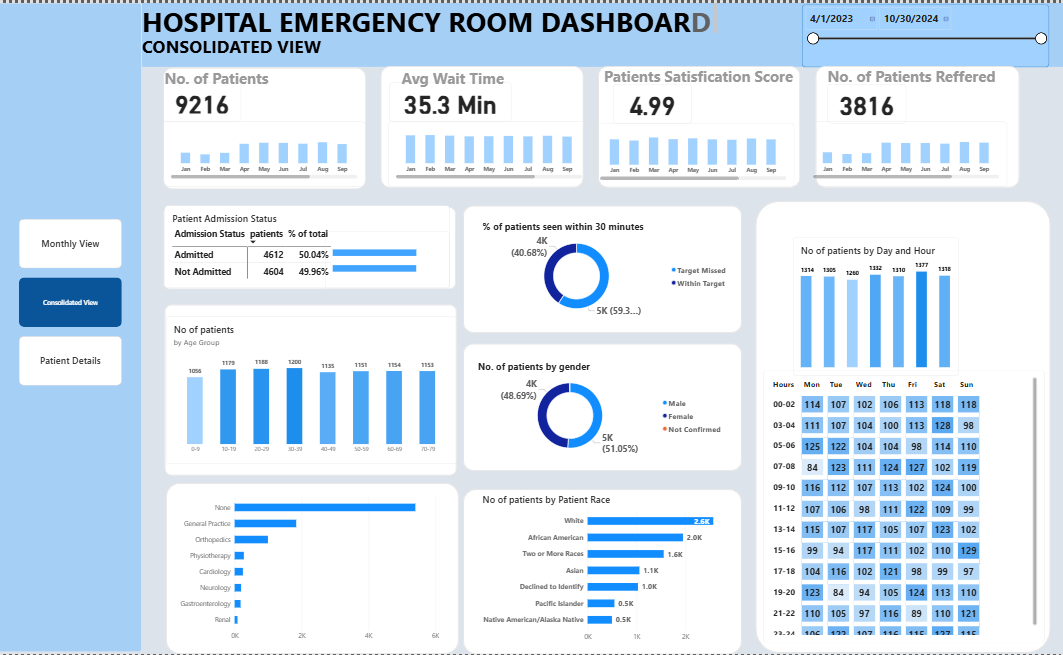

The page's visual inventory and layout, read from the dashboard file:
{"tool":"powerbi","page":{"name":"Consolidated View","canvas":[2300,1400],"ordinal":1},"visuals":[{"type":"shape","box":[316.7,0,1983.3,137.5],"z":0},{"type":"textbox","box":[316.7,0,1237.5,70.8],"z":2000},{"type":"textbox","box":[316.6,69.1,480.4,61.9],"z":3000},{"type":"shape","box":[360.3,138.3,436.7,262],"z":4000},{"type":"card","fields":{"Values":["Hospital ER_Data.No of patients"]},"box":[362,171.9,168.2,84.1],"z":5000},{"type":"slicer","fields":{"Values":["Date Table.Date"]},"box":[1735.9,3.6,531.3,134.7],"z":6000},{"type":"textbox","box":[364.2,137.7,309.4,58.5],"z":8000},{"type":"columnChart","fields":{"Category":["Date Table.Month"],"Y":["Hospital ER_Data.No of patients"]},"box":[362,256,435.1,140],"z":10750},{"type":"shape","box":[829.3,136,436.7,262],"z":11000},{"type":"card","fields":{"Values":["Hospital ER_Data.Avg Wait Time"]},"box":[847.8,169.6,261.7,84.8],"z":12000},{"type":"shape","box":[1298.3,136.4,434.9,261.7],"z":13000},{"type":"shape","box":[1765.5,136.4,438.6,261.7],"z":14000},{"type":"textbox","box":[1791.3,136.4,468.1,62.7],"z":15000},{"type":"shape","box":[4.2,0,312.5,1395.8],"z":15500},{"type":"columnChart","fields":{"Category":["Date Table.Month"],"Y":["Avg(Hospital ER_Data.Patient Waittime)"]},"box":[846.3,253.7,435.1,140],"z":16000},{"type":"card","fields":{"Values":["Hospital ER_Data.Patients Satisfication Score"]},"box":[1330.6,173.2,169.6,84.8],"z":17000},{"type":"textbox","box":[873.6,140.1,313.3,59],"z":18000},{"type":"columnChart","fields":{"Category":["Date Table.Month"],"Y":["Hospital ER_Data.Patients Satisfication Score"]},"box":[1282.7,258,434.9,140],"z":19000},{"type":"columnChart","fields":{"Category":["Date Table.Month"],"Y":["Hospital ER_Data.No of patients Reffered"]},"box":[1743.4,254.3,434.9,140],"z":20000},{"type":"card","fields":{"Values":["Hospital ER_Data.No of patients Reffered"]},"box":[1791.3,173.2,169.6,84.8],"z":21000},{"type":"textbox","box":[1308.5,136.4,423.9,62.7],"z":22000},{"type":"shape","box":[361.2,438.6,630,177],"z":23000},{"type":"pivotTable","title":"Patient Admission Status","fields":{"Rows":["Hospital ER_Data.Admission Status"],"Values":["Hospital ER_Data.No of patients1","Hospital ER_Data.No of patients"]},"box":[363.6,436.4,613.6,177.3],"z":24000},{"type":"barChart","fields":{"Category":["Hospital ER_Data.Admission Status"],"Y":["Hospital ER_Data.No of patients"]},"box":[709.4,490.6,267.9,124.5],"z":25000},{"type":"shape","box":[364.3,650,628.6,368],"z":26000},{"type":"clusteredColumnChart","fields":{"Category":["Hospital ER_Data.Age Group"],"Y":["Hospital ER_Data.No of patients"]},"box":[366.7,673.3,626.7,316.7],"z":27000},{"type":"shape","box":[367.6,1032.4,629.7,367.6],"z":28000},{"type":"clusteredBarChart","fields":{"Category":["Hospital ER_Data.Department Referral"],"Y":["Hospital ER_Data.No of patients"]},"box":[391.9,1054.1,564.9,321.6],"z":29000},{"type":"shape","box":[1007.4,437,600,274.1],"z":30000},{"type":"donutChart","title":"% of patients seen within 30 minutes","fields":{"Category":["Hospital ER_Data.WaitTime Status"],"Y":["Hospital ER_Data.No of patients"]},"box":[1047.5,467.5,532.5,210],"z":31000},{"type":"shape","box":[1007.4,733.3,600,274.1],"z":32000},{"type":"donutChart","title":"No. of patients by gender","fields":{"Category":["Hospital ER_Data.Patient Gender"],"Y":["Hospital ER_Data.No of patients"]},"box":[1037.7,766.4,532.5,210],"z":33000},{"type":"shape","box":[1007.4,1044.4,600,355.6],"z":34000},{"type":"clusteredBarChart","fields":{"Category":["Hospital ER_Data.Patient Race"],"Y":["Hospital ER_Data.No of patients"]},"box":[1048.1,1055.6,533.3,322.2],"z":35000},{"type":"shape","box":[1634.4,425,634.4,971.9],"z":36000},{"type":"pivotTable","fields":{"Columns":["Date Table.Day Name"],"Rows":["Hospital ER_Data.WaitTime Interval"],"Values":["Hospital ER_Data.No of patients"]},"box":[1650,790.6,606.2,584.4],"z":37000},{"type":"columnChart","title":"No of patients by Day and Hour","fields":{"Category":["Date Table.Day Name"],"Y":["Hospital ER_Data.No of patients"]},"box":[1717.7,502.2,356.6,298.4],"z":38000},{"type":"pageNavigator","box":[50.9,465.8,222,360.3],"z":38001}]}

Visuals, with their boxes in screenshot pixels (x1, y1, x2, y2), scaled from the page's 2300x1400 canvas onto the 1063x655 screenshot:
shape: bbox=(146, 0, 1062, 64)
textbox: bbox=(146, 0, 718, 33)
textbox: bbox=(146, 32, 368, 61)
shape: bbox=(167, 65, 368, 187)
card - Hospital ER_Data.No of patients: bbox=(167, 80, 245, 120)
slicer - Date Table.Date: bbox=(802, 2, 1048, 65)
textbox: bbox=(168, 64, 311, 92)
columnChart - Date Table.Month x Hospital ER_Data.No of patients: bbox=(167, 120, 368, 185)
shape: bbox=(383, 64, 585, 186)
card - Hospital ER_Data.Avg Wait Time: bbox=(392, 79, 513, 119)
shape: bbox=(600, 64, 801, 186)
shape: bbox=(816, 64, 1019, 186)
textbox: bbox=(828, 64, 1044, 93)
shape: bbox=(2, 0, 146, 653)
columnChart - Date Table.Month x Avg(Hospital ER_Data.Patient Waittime): bbox=(391, 119, 592, 184)
card - Hospital ER_Data.Patients Satisfication Score: bbox=(615, 81, 693, 121)
textbox: bbox=(404, 66, 549, 93)
columnChart - Date Table.Month x Hospital ER_Data.Patients Satisfication Score: bbox=(593, 121, 794, 186)
columnChart - Date Table.Month x Hospital ER_Data.No of patients Reffered: bbox=(806, 119, 1007, 184)
card - Hospital ER_Data.No of patients Reffered: bbox=(828, 81, 906, 121)
textbox: bbox=(605, 64, 801, 93)
shape: bbox=(167, 205, 458, 288)
"Patient Admission Status" pivotTable: bbox=(168, 204, 452, 287)
barChart - Hospital ER_Data.Admission Status x Hospital ER_Data.No of patients: bbox=(328, 230, 452, 288)
shape: bbox=(168, 304, 459, 476)
clusteredColumnChart - Hospital ER_Data.Age Group x Hospital ER_Data.No of patients: bbox=(169, 315, 459, 463)
shape: bbox=(170, 483, 461, 654)
clusteredBarChart - Hospital ER_Data.Department Referral x Hospital ER_Data.No of patients: bbox=(181, 493, 442, 644)
shape: bbox=(466, 204, 743, 333)
"% of patients seen within 30 minutes" donutChart: bbox=(484, 219, 730, 317)
shape: bbox=(466, 343, 743, 471)
"No. of patients by gender" donutChart: bbox=(480, 359, 726, 457)
shape: bbox=(466, 489, 743, 654)
clusteredBarChart - Hospital ER_Data.Patient Race x Hospital ER_Data.No of patients: bbox=(484, 494, 731, 645)
shape: bbox=(755, 199, 1049, 654)
pivotTable - Date Table.Day Name x Hospital ER_Data.WaitTime Interval: bbox=(763, 370, 1043, 643)
"No of patients by Day and Hour" columnChart: bbox=(794, 235, 959, 375)
pageNavigator: bbox=(24, 218, 126, 386)
